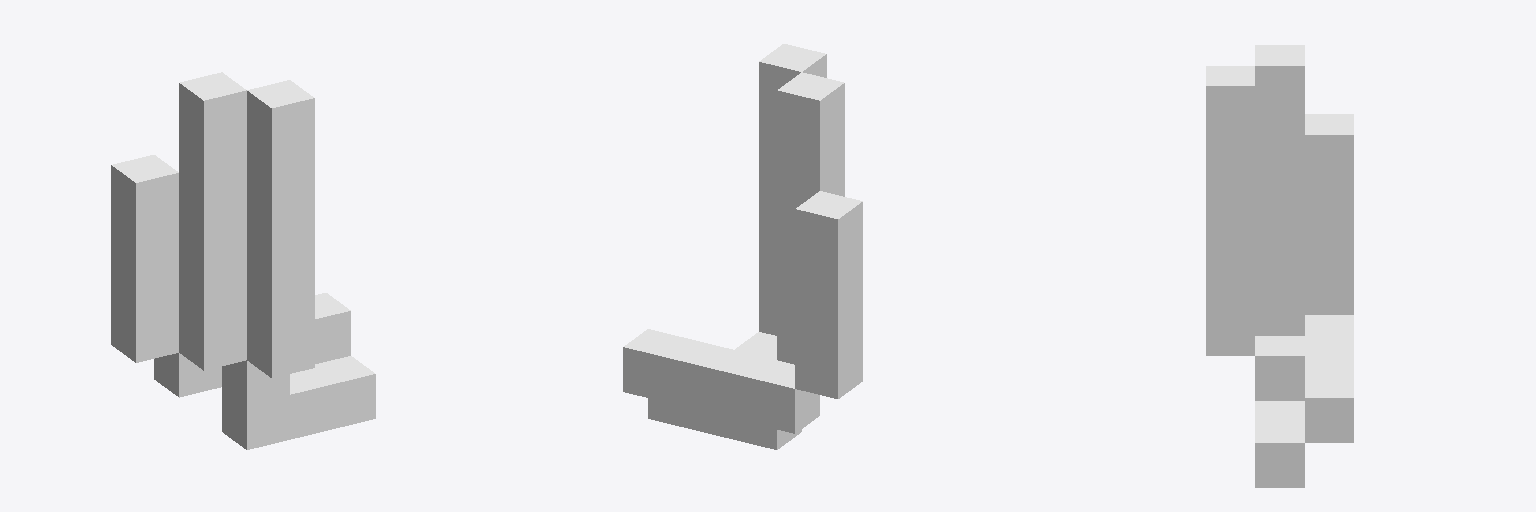
Rendered from YellowHouseParts-74.obj.
3 renders of one model, left to right at view 1: azimuth 30°, elevation 25°; view 2: azimuth 150°, elevation 25°; view 3: azimuth 270°, elevation 25°, orthographic.
Visible parts, largest first — view 1: object 1; view 2: object 1; view 3: object 1.
Boxes of the visible parts, <box> form: object 1: <box>111,72,375,449</box>; object 1: <box>623,44,862,449</box>; object 1: <box>1206,45,1353,487</box>.
Size of the model in its own units: 0.5 by 0.8 by 0.3.